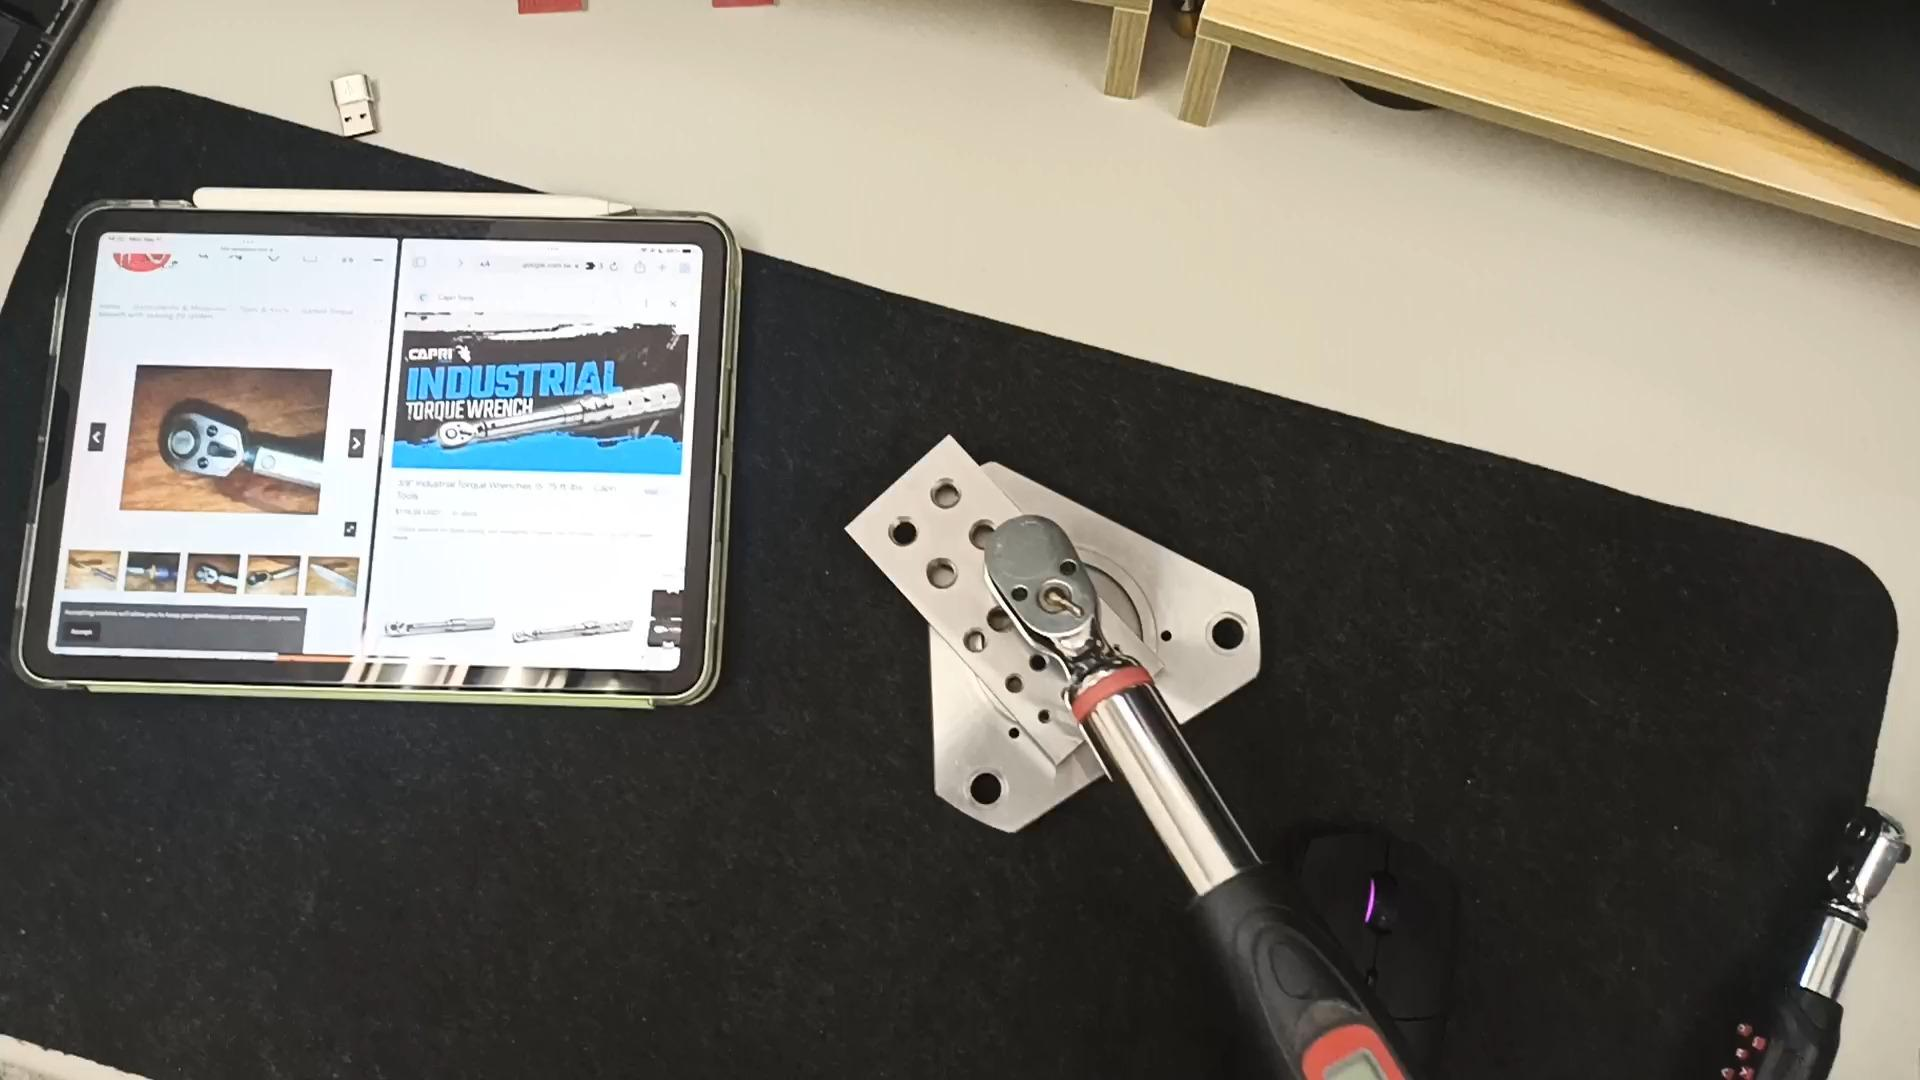Tool: (982, 514, 1120, 674), (1807, 800, 1920, 931), (156, 408, 248, 480)
hole: (1186, 612, 1255, 662), (945, 769, 1010, 809), (949, 517, 1008, 556), (908, 555, 965, 594), (912, 476, 966, 512), (871, 514, 923, 548), (981, 599, 1019, 634), (958, 624, 989, 656), (1001, 666, 1024, 702), (1025, 649, 1050, 675), (1031, 707, 1058, 731)
